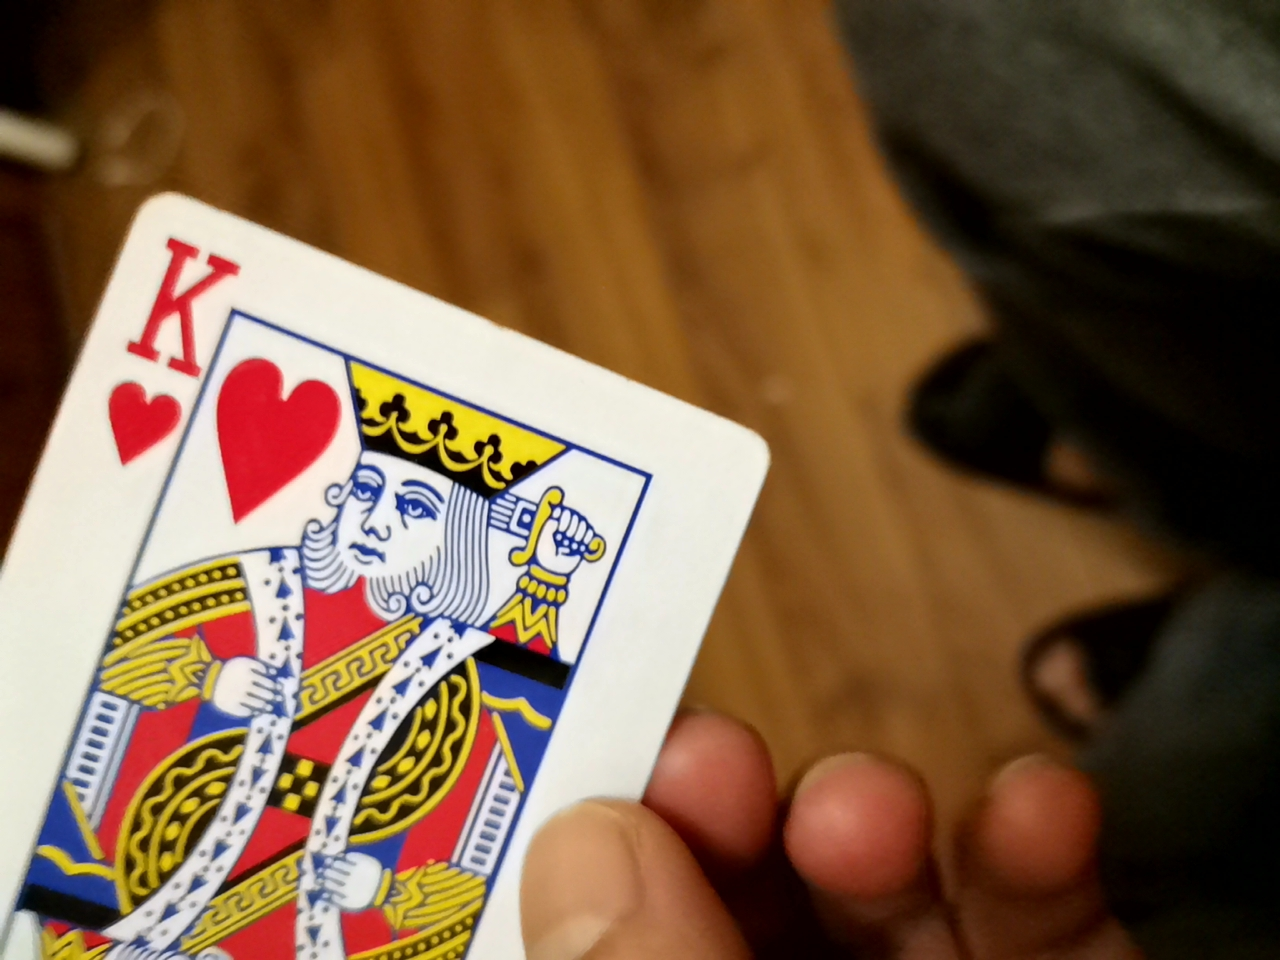hx k: (13, 174, 781, 960)
